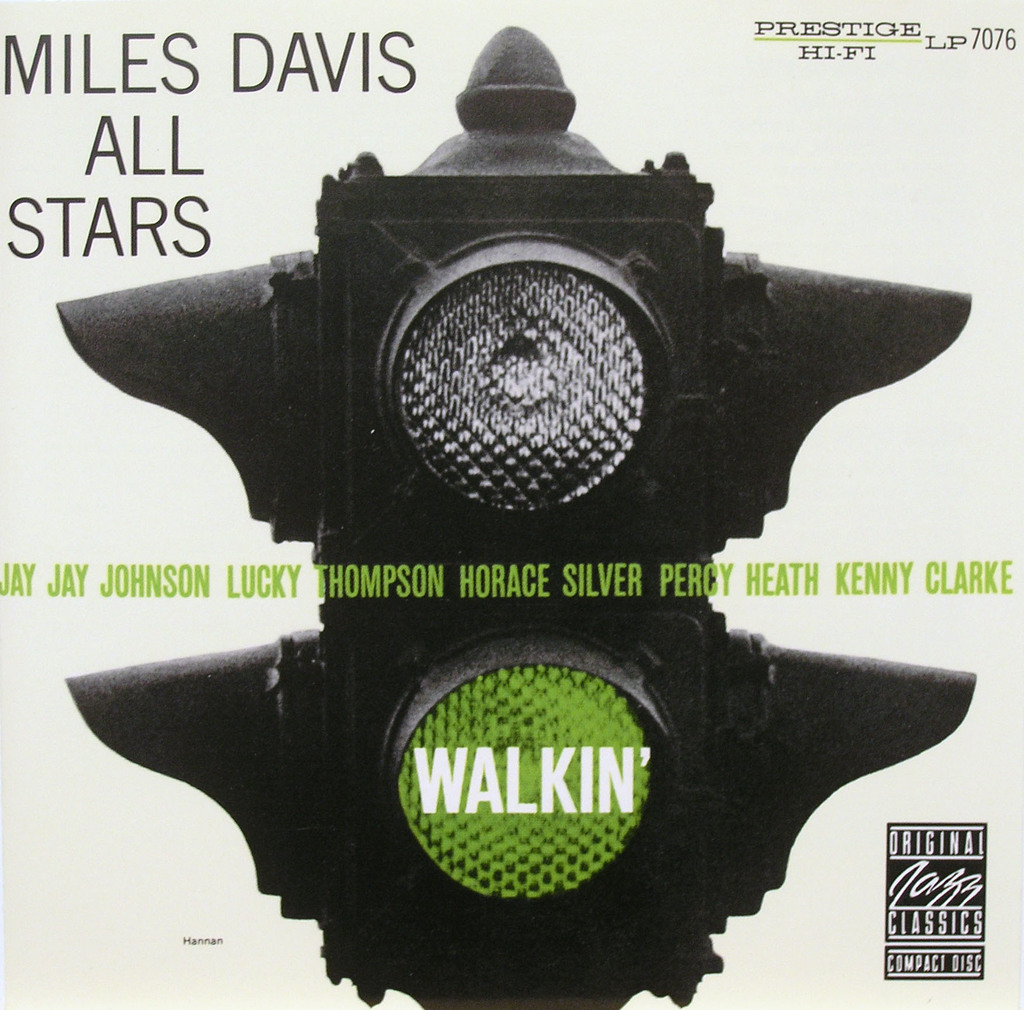green_light: (398, 636, 668, 916)
